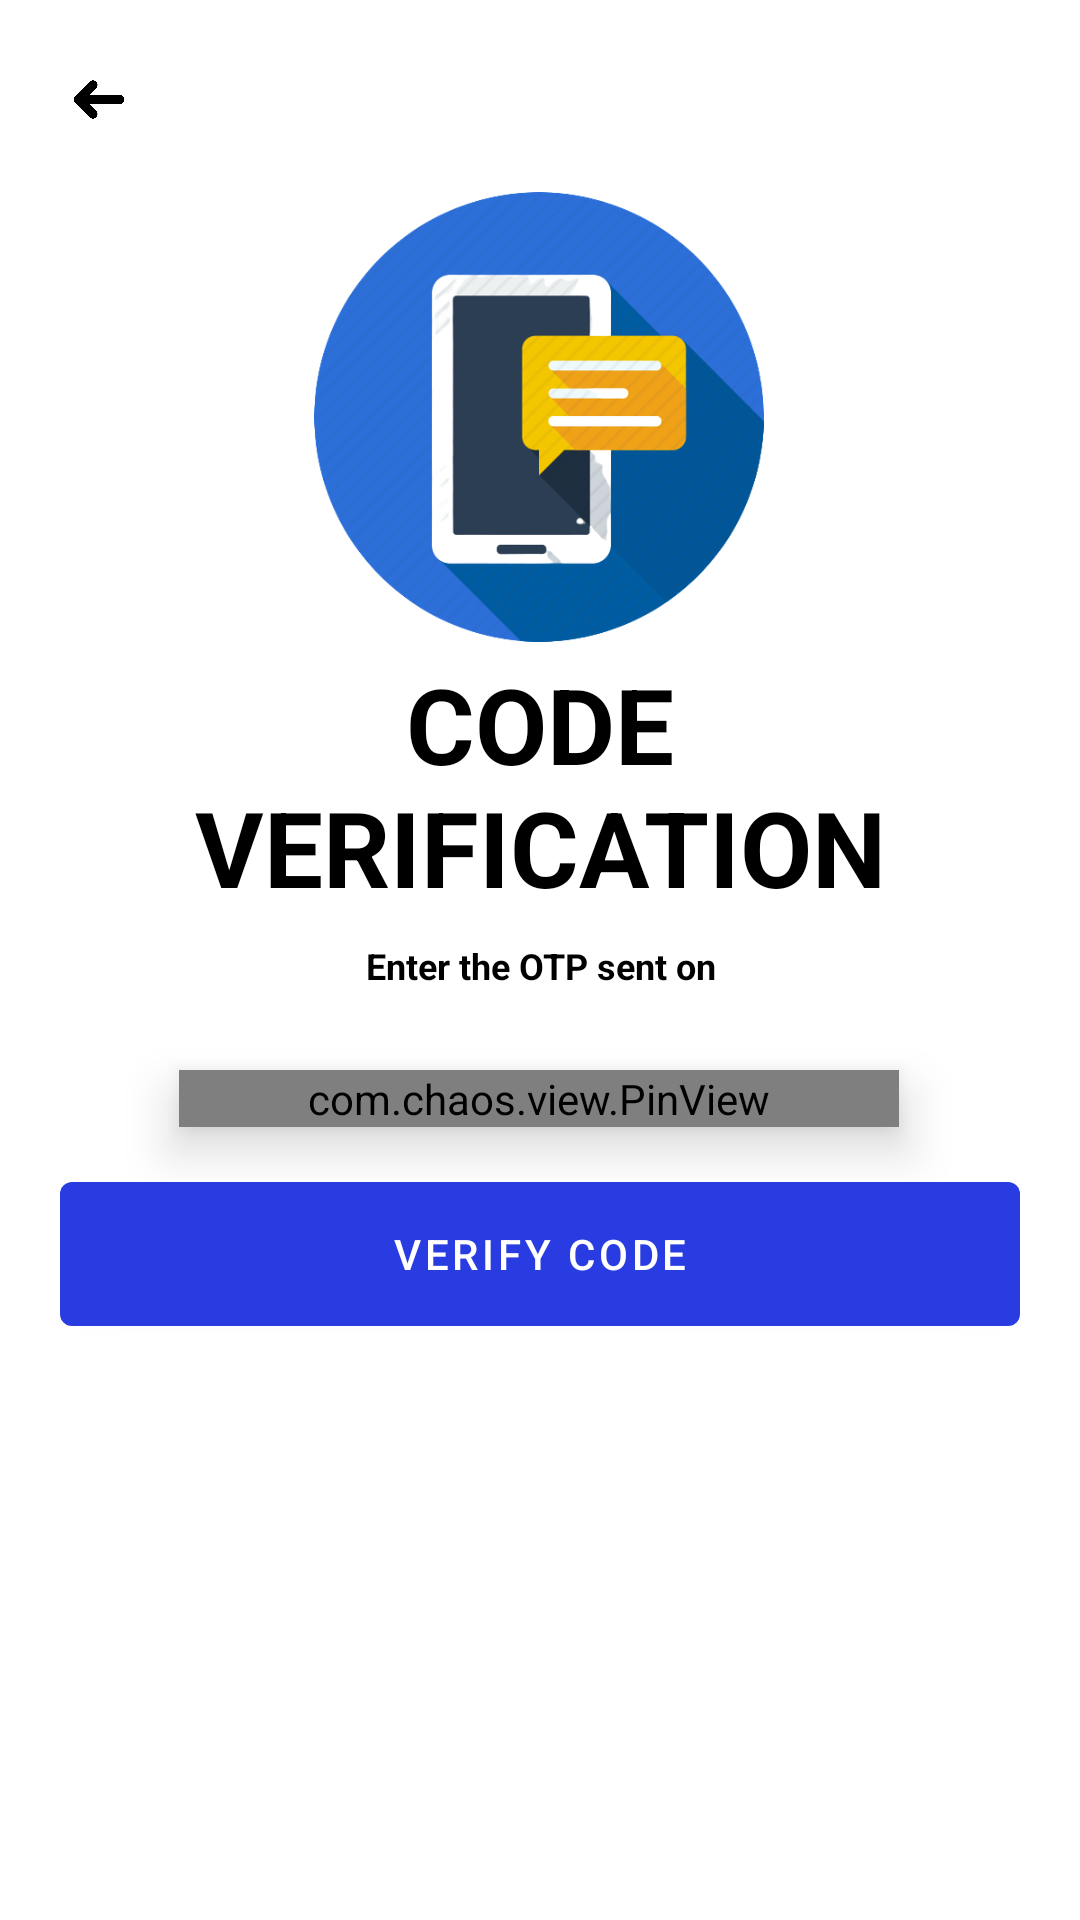

Where icons sit on this 1080*1920 app screen, as [x1, y1, x2, y2]:
backbutton: [74, 80, 124, 119]
